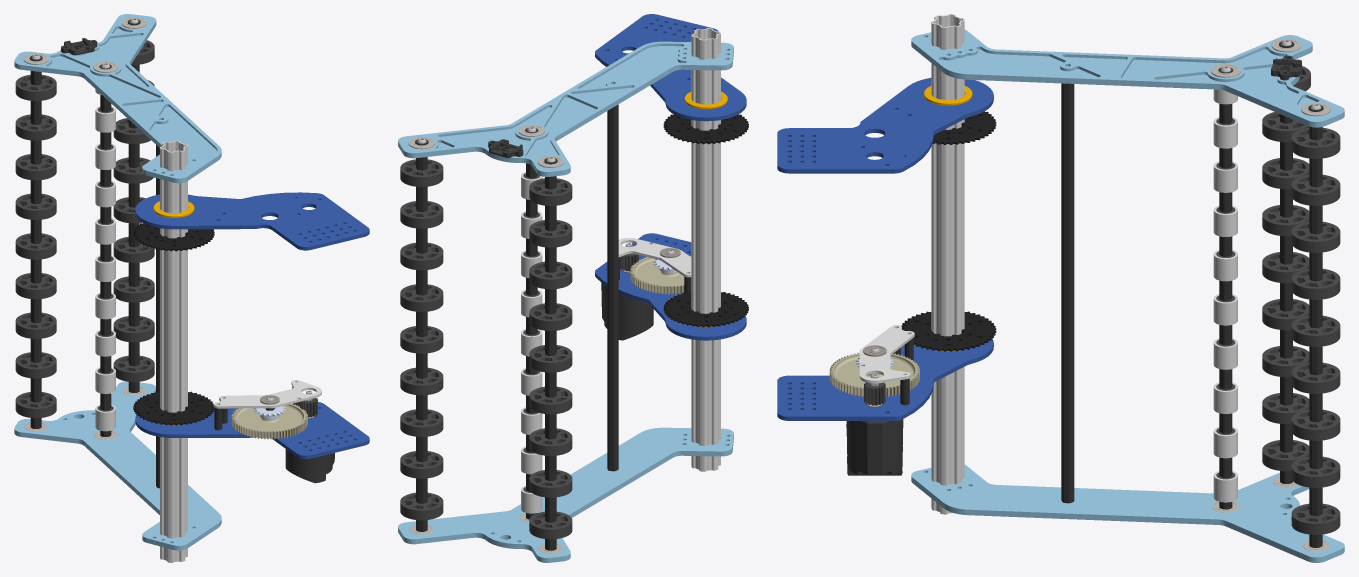
The picture shows the model from 3 angles, left to right: view 1: azimuth 30°, elevation 25°; view 2: azimuth 150°, elevation 25°; view 3: azimuth 270°, elevation 25°; orthographic projection. The views are drawn at different scales.
Parts seen in each view (by area): view 1: 2" OD 30A Thrifty Squish Wheel (TTB-0032) (×16), Part 4 (×2), MAXSpline Shaft 22", Part 2, Part 3, Shaft (×4), am-4541 Sushi Roller 500 Hex Bore (×9), 48T #25 Plate Sprocket MAXSpline (REV-21-1964) (×2), 72t 20dp Aluminum 1/2" Hex Bore Pocketed Gear (WCP-0123), Part 5, Kraken X60 Brushless Motor, LASER CAN Case Rev 1 Top; view 2: 2" OD 30A Thrifty Squish Wheel (TTB-0032) (×18), Shaft (×4), Part 2, MAXSpline Shaft 22", Part 3, Part 4 (×2), 48T #25 Plate Sprocket MAXSpline (REV-21-1964) (×2), Kraken X60 Brushless Motor, 72t 20dp Aluminum 1/2" Hex Bore Pocketed Gear (WCP-0123), Part 5, am-4541 Sushi Roller 500 Hex Bore (×2), LASER CAN Case Rev 1 Top; view 3: 2" OD 30A Thrifty Squish Wheel (TTB-0032) (×17), Part 4 (×2), Shaft (×4), Part 2, Part 3, MAXSpline Shaft 22", 48T #25 Plate Sprocket MAXSpline (REV-21-1964) (×2), Kraken X60 Brushless Motor, 72t 20dp Aluminum 1/2" Hex Bore Pocketed Gear (WCP-0123), Part 5.
Boxes of the visible parts, x1,y1,x2,y2 form: 2" OD 30A Thrifty Squish Wheel (TTB-0032) (×16): (15,74,154,418); Part 4 (×2): (135,192,369,459); MAXSpline Shaft 22": (160,140,187,562); Part 2: (14,14,221,183); Part 3: (14,381,221,550); Shaft (×4): (29,18,159,488); am-4541 Sushi Roller 500 Hex Bore (×9): (95,106,115,431); 48T #25 Plate Sprocket MAXSpline (REV-21-1964) (×2): (133,223,214,425); 72t 20dp Aluminum 1/2" Hex Bore Pocketed Gear (WCP-0123): (231,403,307,439); Part 5: (213,379,321,408); Kraken X60 Brushless Motor: (285,390,334,483); LASER CAN Case Rev 1 Top: (61,38,97,55); 2" OD 30A Thrifty Squish Wheel (TTB-0032) (×18): (400,159,572,539); Shaft (×4): (415,104,618,550); Part 2: (398,41,733,176); MAXSpline Shaft 22": (691,28,720,471); Part 3: (398,427,733,562); Part 4 (×2): (595,14,746,340); 48T #25 Plate Sprocket MAXSpline (REV-21-1964) (×2): (663,114,748,327); Kraken X60 Brushless Motor: (601,243,653,340); 72t 20dp Aluminum 1/2" Hex Bore Pocketed Gear (WCP-0123): (630,255,691,294); Part 5: (618,238,691,277); am-4541 Sushi Roller 500 Hex Bore (×2): (521,446,542,513); LASER CAN Case Rev 1 Top: (488,139,523,158); 2" OD 30A Thrifty Squish Wheel (TTB-0032) (×17): (1262,112,1340,534); Part 4 (×2): (777,78,993,420); Shaft (×4): (1061,39,1323,547); Part 2: (911,29,1344,127); Part 3: (911,465,1344,562); MAXSpline Shaft 22": (931,14,964,514); 48T #25 Plate Sprocket MAXSpline (REV-21-1964) (×2): (901,111,996,351); Kraken X60 Brushless Motor: (846,374,903,475); 72t 20dp Aluminum 1/2" Hex Bore Pocketed Gear (WCP-0123): (829,352,919,396); Part 5: (859,325,914,383).
Bounding box in the file's own units: 0.2444 × 0.5588 × 0.5906.
